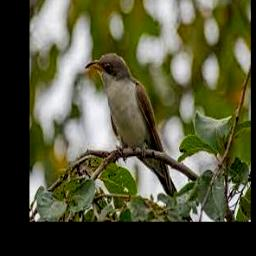Cuckoo: (85, 52, 193, 222)
